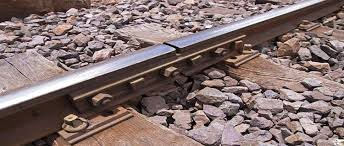insulated joint: (71, 33, 249, 121)
